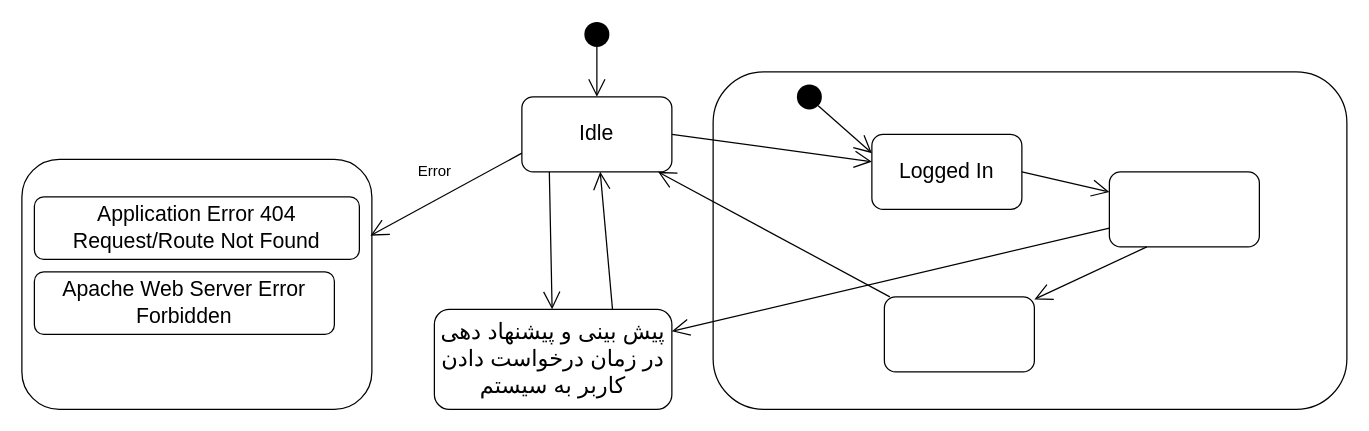
This 1369x431 diagram has some shape labels left out. The centre of each missing label's shape, as x and y in pixels:
Logged Out: (958,334)
Processing: (1183,209)
